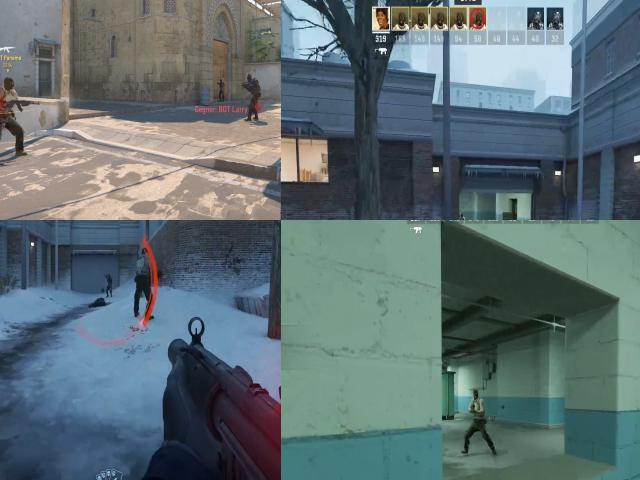CT: (246, 74, 260, 118), (106, 272, 114, 297), (219, 78, 225, 100)
CT-Head: (247, 74, 255, 83), (219, 78, 224, 84), (108, 271, 111, 280)
Dead: (86, 295, 109, 319)
T: (0, 73, 26, 153), (468, 387, 486, 428), (135, 252, 153, 290), (458, 211, 468, 220)
T-Head: (0, 73, 17, 96), (467, 386, 483, 402), (138, 247, 148, 264), (460, 214, 467, 220)
